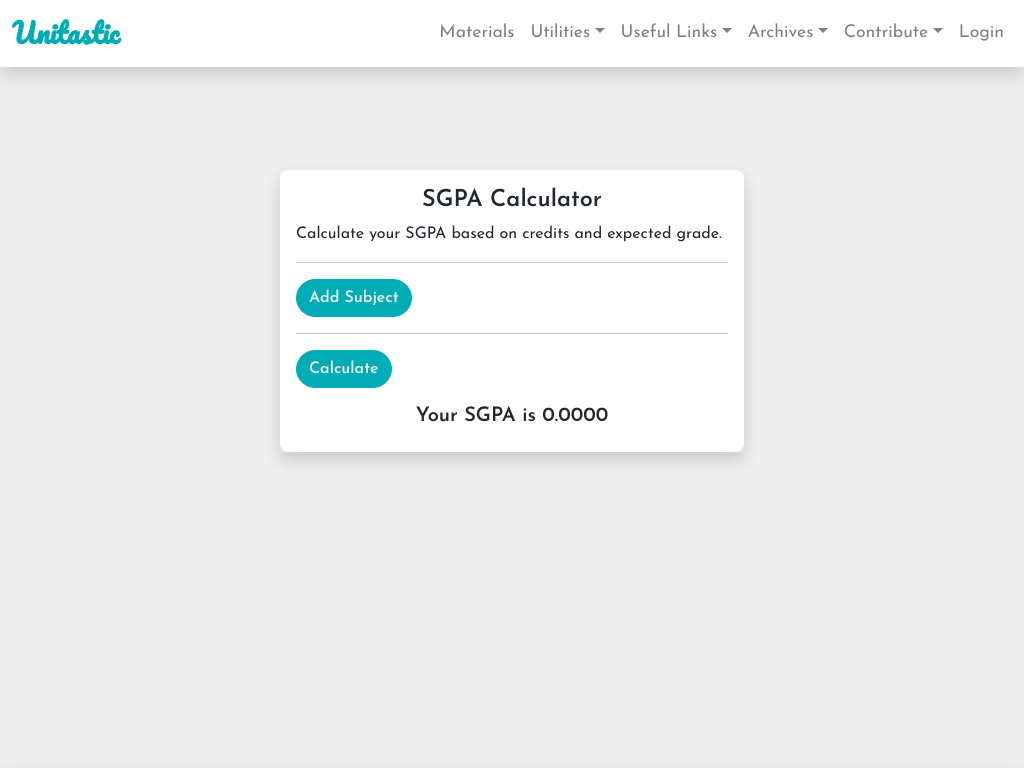
Scenario: SGPACalculator Component › removes a subject when remove button is clicked
Click the button "Add Subject".
click(354, 298)  # box [296,279,412,317]
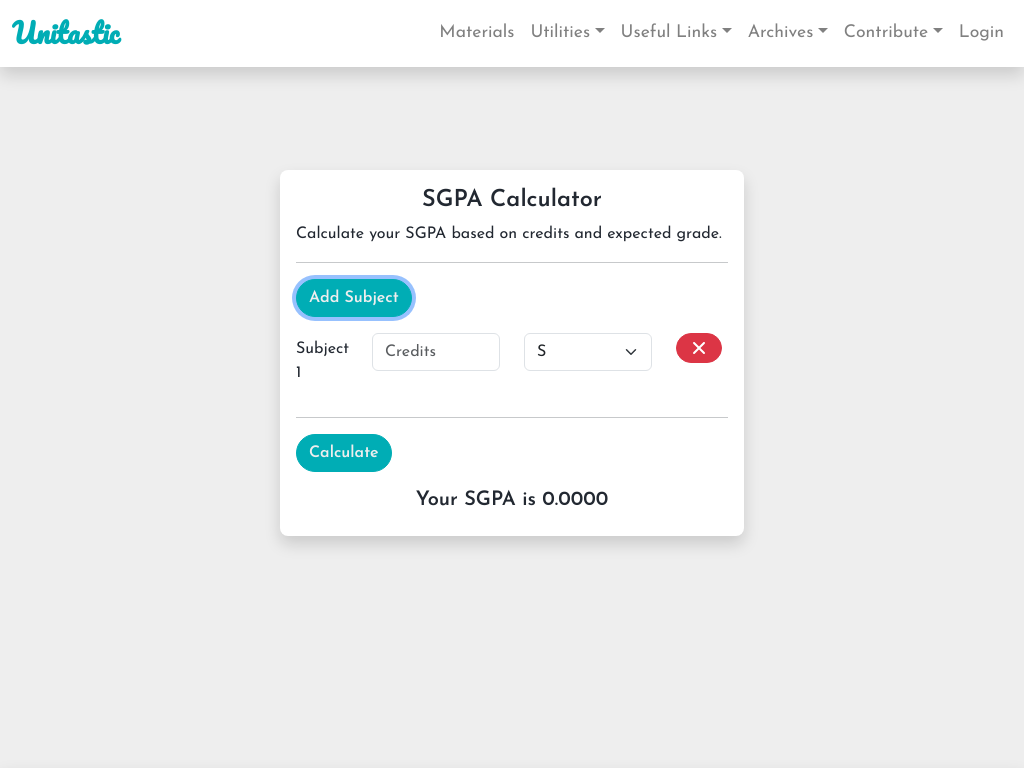
Click the button "Add Subject".
click(354, 298)  # box [296,279,412,317]
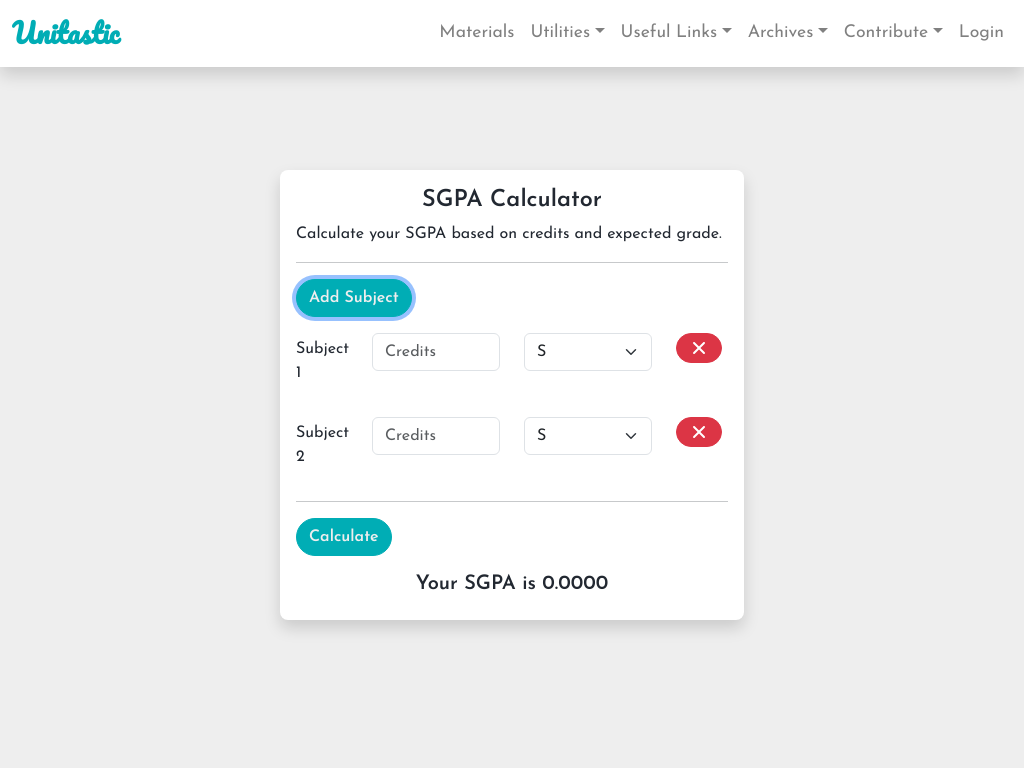
Check: the text "Subject 1" is shown, box [296,337,348,385]
Check: the text "Subject 2" is shown, box [296,421,348,469]
Click the 6th button.
click(699, 348)  # box [676,333,722,363]
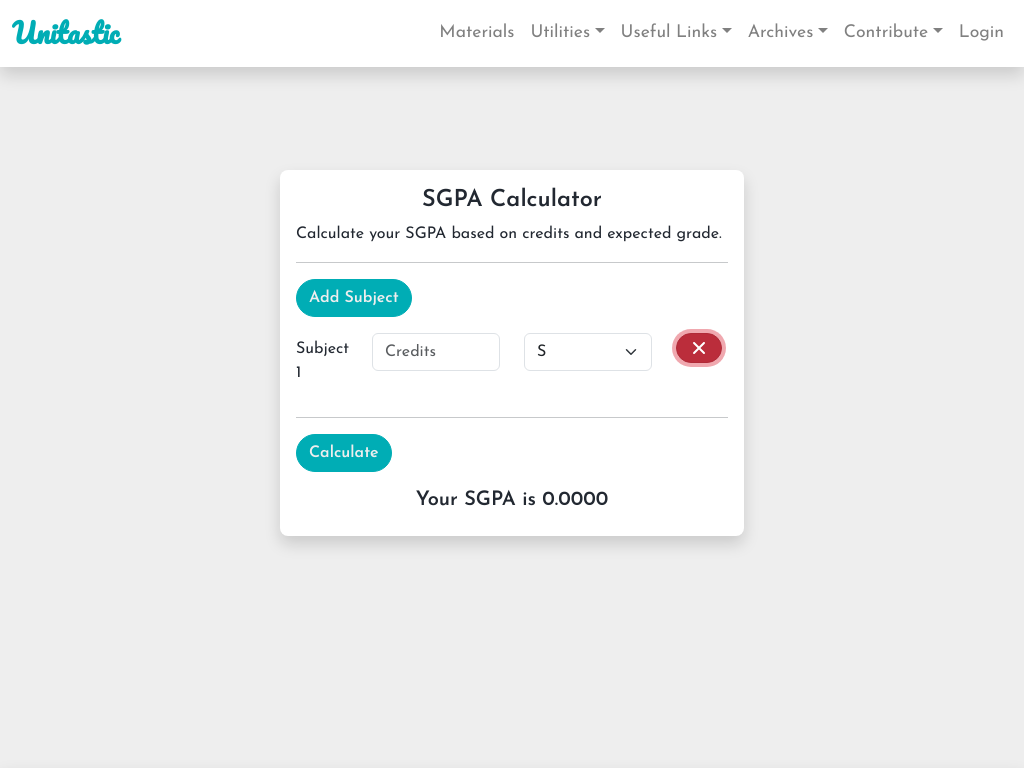
Check: the text "Subject 1" is shown, box [296,337,348,385]
Check: the text "Subject 2" is gone
